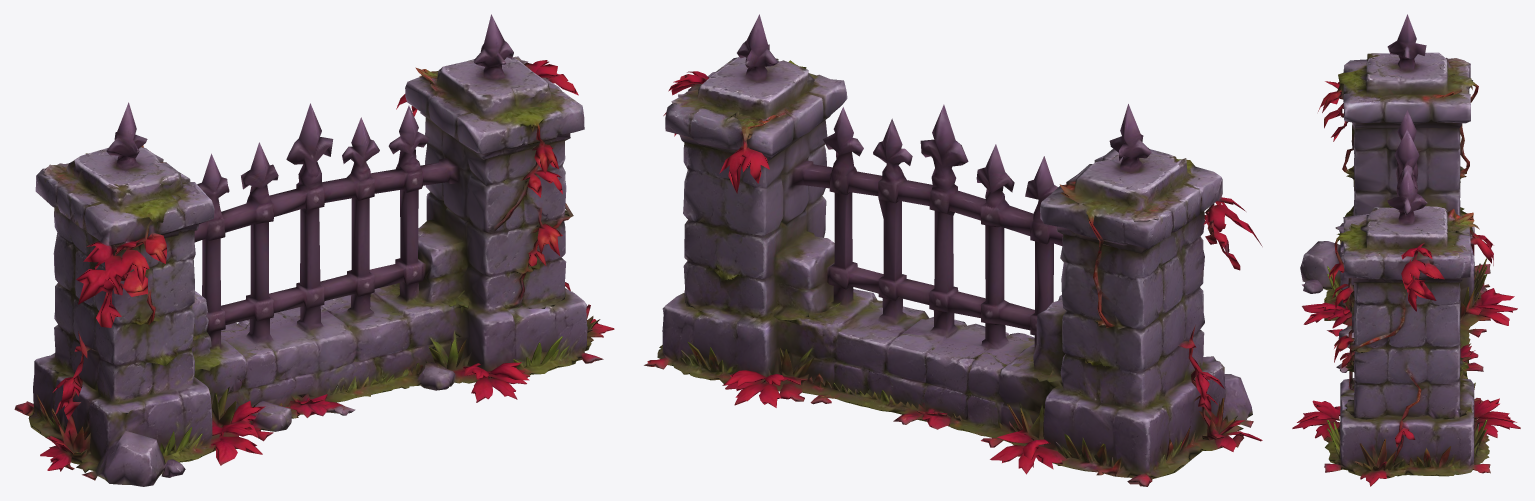
File: gen_iron_wall.glb
The picture shows the model from 3 angles, left to right: view 1: azimuth 30°, elevation 25°; view 2: azimuth 150°, elevation 25°; view 3: azimuth 270°, elevation 25°; orthographic projection. The views are drawn at different scales.
Visible parts, largest first — view 1: tripo_node_a7700a9c-75f6-4e94-8dad-5188304df0c8; view 2: tripo_node_a7700a9c-75f6-4e94-8dad-5188304df0c8; view 3: tripo_node_a7700a9c-75f6-4e94-8dad-5188304df0c8.
Boxes of the visible parts, bbox=[...] form: tripo_node_a7700a9c-75f6-4e94-8dad-5188304df0c8: bbox=[14, 14, 614, 486]; tripo_node_a7700a9c-75f6-4e94-8dad-5188304df0c8: bbox=[644, 14, 1262, 486]; tripo_node_a7700a9c-75f6-4e94-8dad-5188304df0c8: bbox=[1292, 14, 1520, 486].
Size of the model in its own units: 0.9887 by 0.5456 by 0.3997.
Materials: 1 (1 with a texture image).
